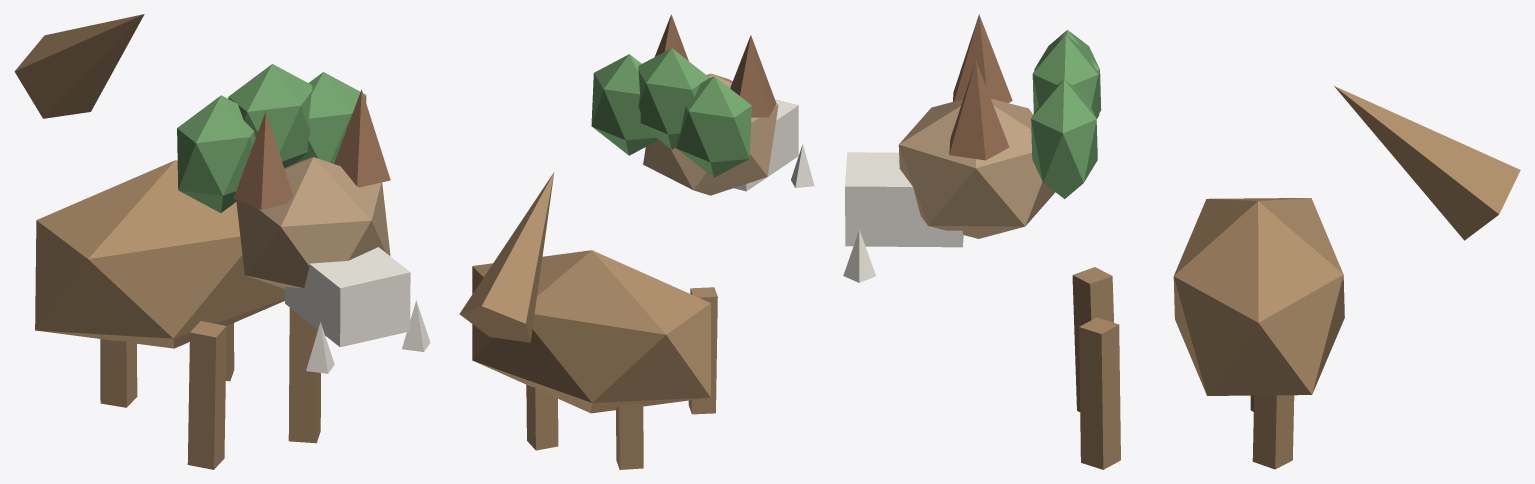
File: npcpose_wolf_idle_05.glb
3 renders of one model, left to right at view 1: azimuth 30°, elevation 25°; view 2: azimuth 150°, elevation 25°; view 3: azimuth 270°, elevation 25°, orthographic. The views are drawn at different scales.
Parts seen in each view (by area): view 1: npcpose; view 2: npcpose; view 3: npcpose.
Boxes of the visible parts, x1=… form: npcpose: x1=14, y1=14, x2=430, y2=469; npcpose: x1=459, y1=14, x2=814, y2=469; npcpose: x1=843, y1=14, x2=1520, y2=469.
Size of the model in its own units: 0.8873 by 1.21 by 1.84.
